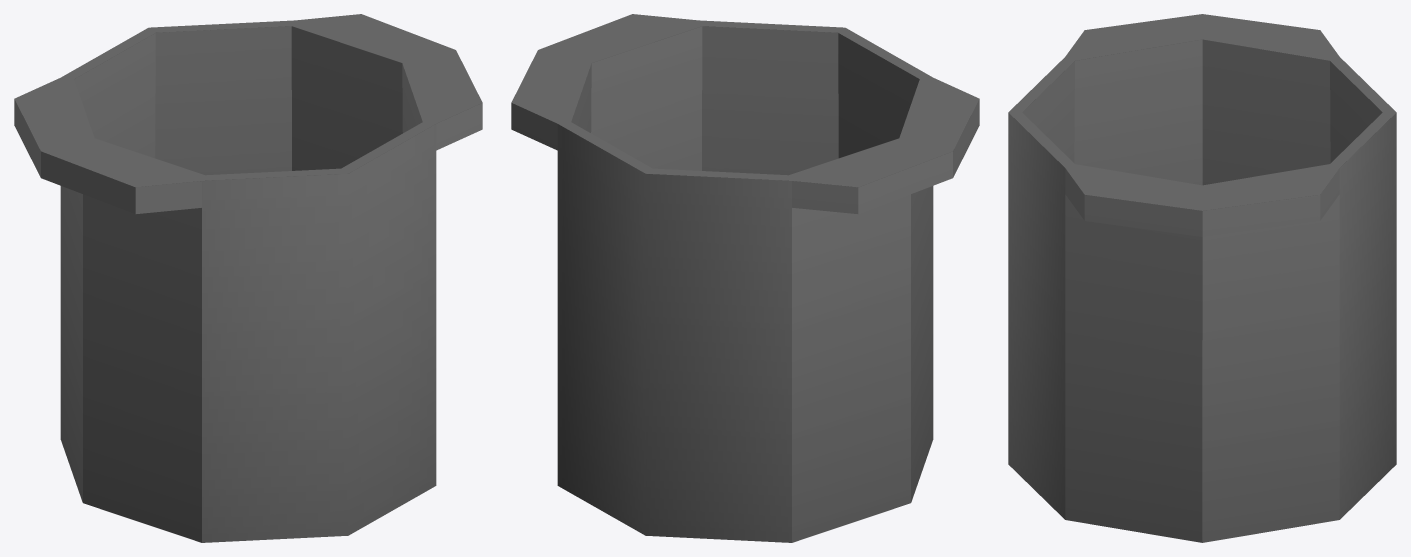
The model's file is nabe10m.fbx.
3 views of the same model, side by side, from view 1: azimuth 30°, elevation 25°; view 2: azimuth 150°, elevation 25°; view 3: azimuth 270°, elevation 25° (orthographic). The views are drawn at different scales.
Visible parts, largest first — view 1: nabe; view 2: nabe; view 3: nabe.
Boxes of the visible parts, box(x1,y1,x2,y2) form: nabe: box(14, 14, 482, 542); nabe: box(511, 14, 979, 542); nabe: box(1008, 14, 1396, 542).
Bounding box in the file's own units: 1200 × 1000 × 1000.
